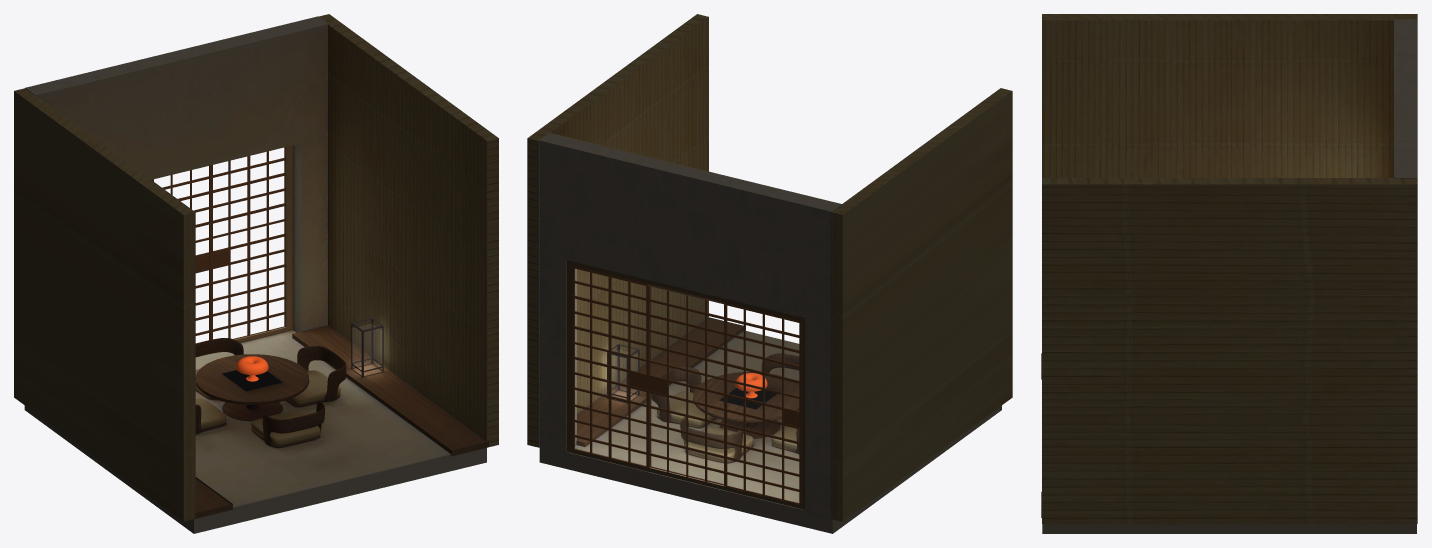
File: envWLamp-transformed.glb
The picture shows the model from 3 angles, left to right: view 1: azimuth 30°, elevation 25°; view 2: azimuth 150°, elevation 25°; view 3: azimuth 270°, elevation 25°; orthographic projection. The views are drawn at different scales.
Parts seen in each view (by area): view 1: Object_2, Object_4, Object_11, Object_10, Object_3, Object_18, Object_12, Object_17, Object_8, Object_9, Object_15, Object_7 (+1 smaller); view 2: Object_2, Object_11, Object_4, Object_3, Object_10, Object_18, Object_12, Object_17, Object_7, Object_8, Object_15; view 3: Object_4, Object_2, Object_11, Object_10.
Boxes of the visible parts, x1,y1,x2,y2 form: Object_2: [14, 88, 195, 521]; Object_4: [319, 14, 498, 446]; Object_11: [25, 16, 328, 332]; Object_10: [24, 330, 486, 533]; Object_3: [152, 145, 292, 342]; Object_18: [195, 325, 488, 518]; Object_12: [195, 354, 309, 421]; Object_17: [195, 369, 340, 446]; Object_8: [286, 346, 346, 406]; Object_9: [251, 401, 324, 447]; Object_15: [351, 318, 383, 377]; Object_7: [195, 338, 243, 399]; Object_2: [831, 88, 1012, 521]; Object_11: [538, 132, 842, 518]; Object_4: [527, 14, 708, 447]; Object_3: [567, 260, 805, 509]; Object_10: [539, 331, 1001, 533]; Object_18: [576, 317, 743, 446]; Object_12: [693, 372, 799, 438]; Object_17: [656, 391, 796, 461]; Object_7: [680, 417, 753, 463]; Object_8: [651, 367, 716, 428]; Object_15: [607, 344, 639, 403]; Object_4: [1042, 178, 1417, 523]; Object_2: [1042, 14, 1417, 177]; Object_11: [1394, 19, 1417, 178]; Object_10: [1042, 524, 1416, 533].
Bounding box in the file's own units: 2.38 × 2.32 × 2.22.
17 materials, 13 textured.
